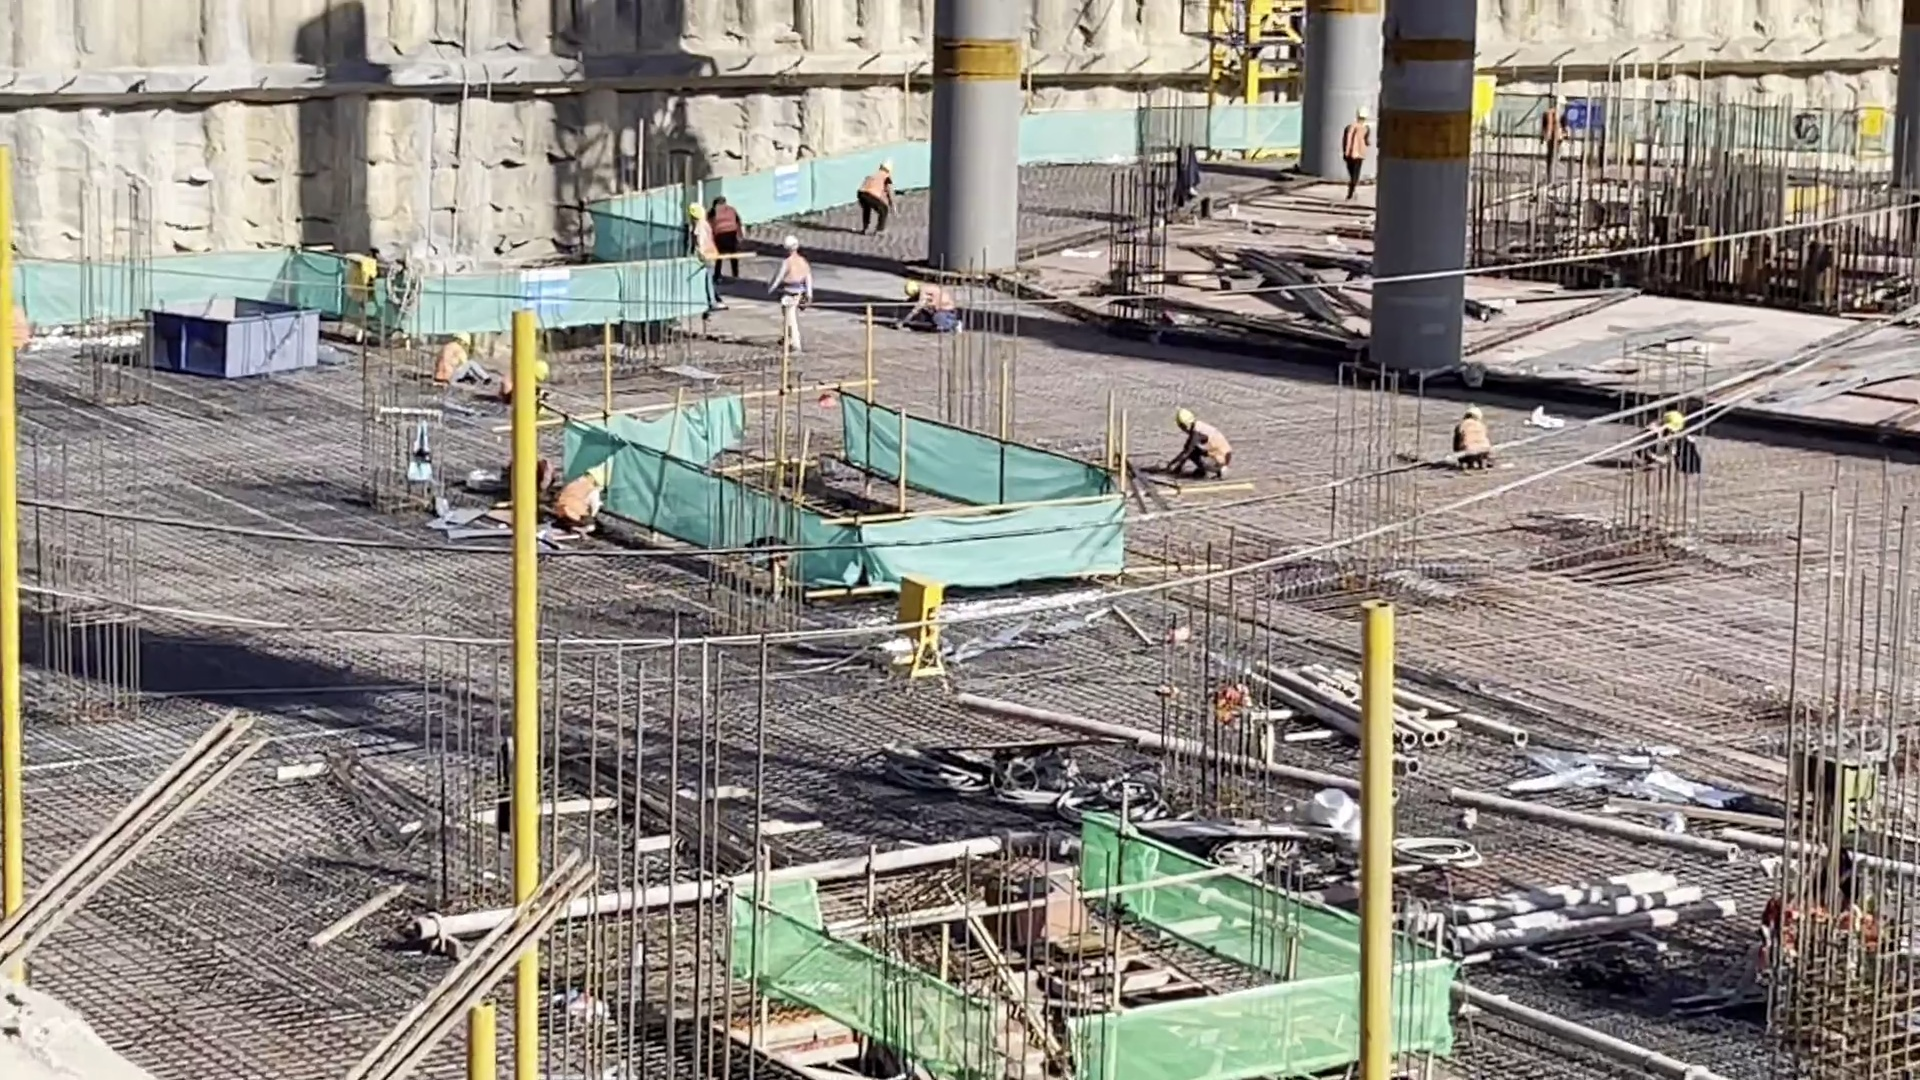helmet: (1662, 411, 1683, 432), (584, 466, 604, 486), (1178, 408, 1195, 428), (533, 361, 550, 380), (780, 234, 799, 249), (454, 330, 470, 345)
person: (773, 235, 812, 356), (1175, 412, 1238, 480), (551, 462, 605, 540), (893, 284, 956, 333), (1448, 407, 1493, 474), (433, 335, 486, 388), (709, 192, 740, 285), (860, 160, 896, 230), (1346, 103, 1369, 200)
vest: (554, 476, 604, 522), (1198, 422, 1229, 465), (1459, 415, 1489, 454), (862, 169, 889, 206), (1344, 122, 1367, 160), (713, 200, 736, 239), (782, 256, 805, 291), (435, 342, 456, 379)
